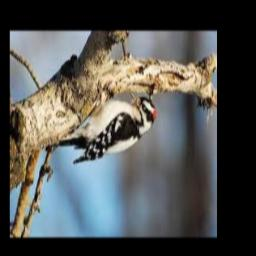Woodpecker: (45, 91, 156, 163)
